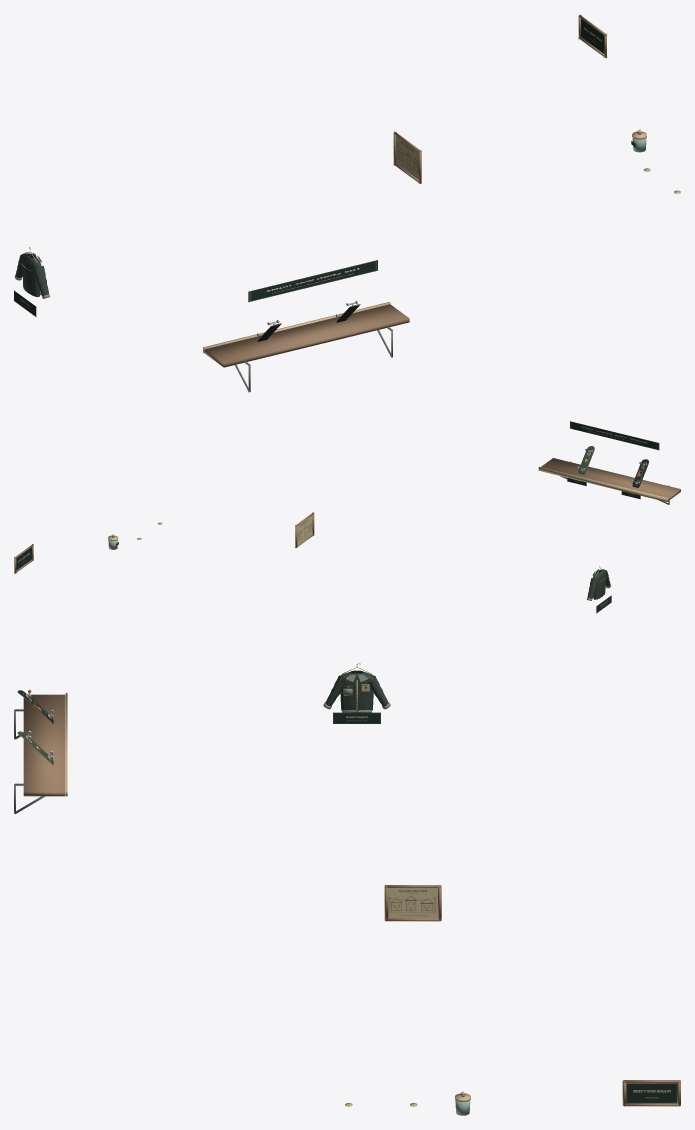
File: Shop_Flair_Only.glb
3 renders of one model, top to bottom at view 1: azimuth 30°, elevation 25°; view 2: azimuth 150°, elevation 25°; view 3: azimuth 270°, elevation 25°, orthographic. The views are drawn at different scales.
Parts seen in each view (by area): view 1: SPECIALS_Upper_Shelf, SPECIALS_Series_Sign, CAFE_Long_Way_Home_Print, JACKET_Night_Route_Body; view 2: SPECIALS_Upper_Shelf, SPECIALS_Series_Sign, SPECIALS_Worn_Shelf_Lip, CAFE_Long_Way_Home_Print, JACKET_Night_Route_Body; view 3: SPECIALS_Upper_Shelf, CAFE_Long_Way_Home_Print, CAFE_Regulars_Plaque, JACKET_Night_Route_Body.
Boxes of the visible parts, x1=… form: SPECIALS_Upper_Shelf: x1=204, y1=304, x2=409, y2=367; SPECIALS_Series_Sign: x1=248, y1=260, x2=377, y2=302; CAFE_Long_Way_Home_Print: x1=396, y1=135, x2=418, y2=179; JACKET_Night_Route_Body: x1=22, y1=253, x2=41, y2=297; SPECIALS_Upper_Shelf: x1=541, y1=458, x2=680, y2=500; SPECIALS_Series_Sign: x1=570, y1=421, x2=659, y2=450; SPECIALS_Worn_Shelf_Lip: x1=538, y1=466, x2=667, y2=501; CAFE_Long_Way_Home_Print: x1=297, y1=515, x2=312, y2=544; JACKET_Night_Route_Body: x1=592, y1=569, x2=606, y2=599; SPECIALS_Upper_Shelf: x1=23, y1=694, x2=65, y2=796; CAFE_Long_Way_Home_Print: x1=388, y1=888, x2=437, y2=918; CAFE_Regulars_Plaque: x1=626, y1=1083, x2=677, y2=1103; JACKET_Night_Route_Body: x1=338, y1=670, x2=374, y2=710.
Size of the model in its own units: 13.89 by 2.82 by 10.59.
33 materials, 13 textured.
